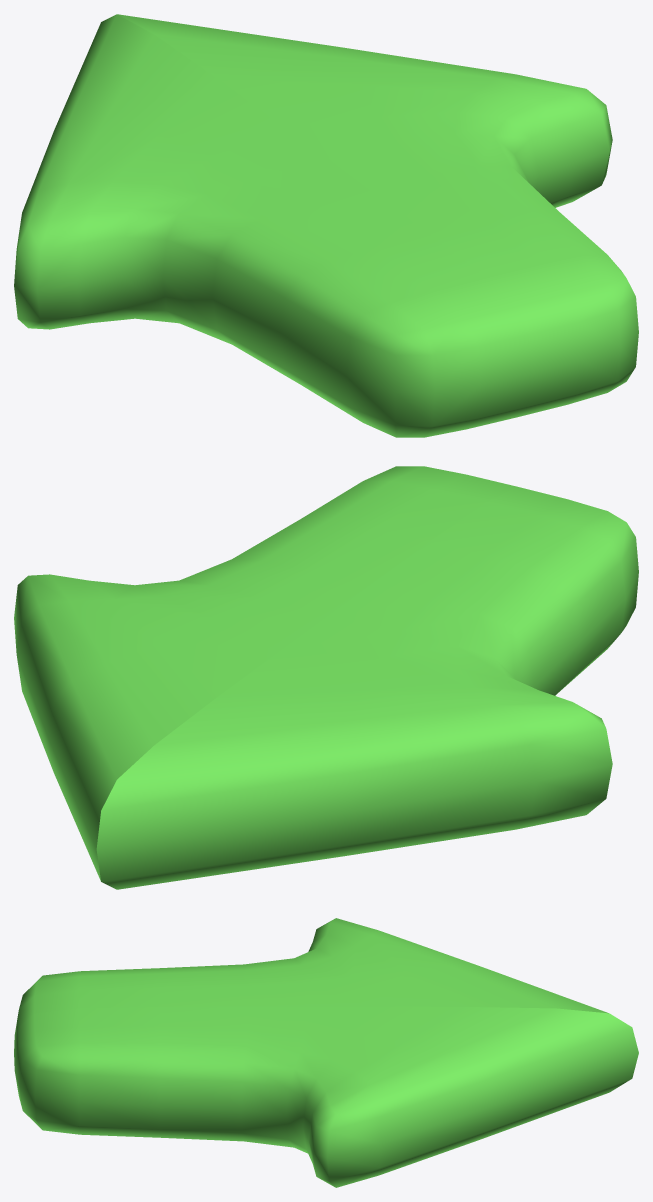
The model's file is Arrow.fbx.
The picture shows the model from 3 angles, top to bottom: view 1: azimuth 30°, elevation 25°; view 2: azimuth 150°, elevation 25°; view 3: azimuth 270°, elevation 25°; orthographic projection. The views are drawn at different scales.
Parts seen in each view (by area): view 1: Arrow; view 2: Arrow; view 3: Arrow.
Part boxes in pixels (x1,y1,x2,y2): Arrow: (14,14,638,437); Arrow: (14,466,638,889); Arrow: (14,918,638,1187).
Size of the model in its own units: 9.43 by 1.94 by 11.87.
